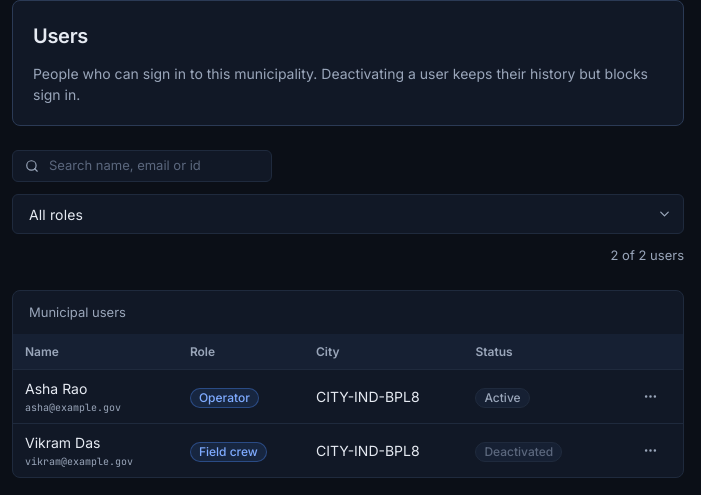
Scenario: UsersPanel › filters by role
Expected: the text "Asha Rao" is shown, x1=25 y1=380 x2=87 y2=397
Select "Field crew" in the dropdown named "Filter by role" at [348, 214], box x1=12 y1=194 x2=684 y2=234
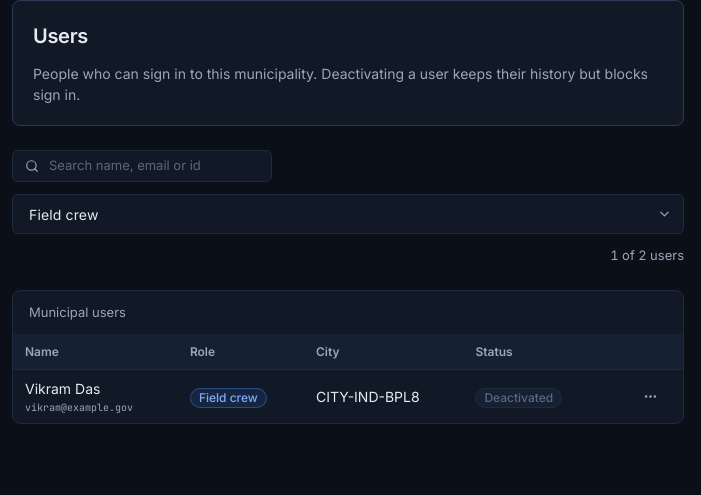
Expected: the text "Vikram Das" is shown, x1=25 y1=380 x2=100 y2=397
Expected: the text "Asha Rao" is gone
